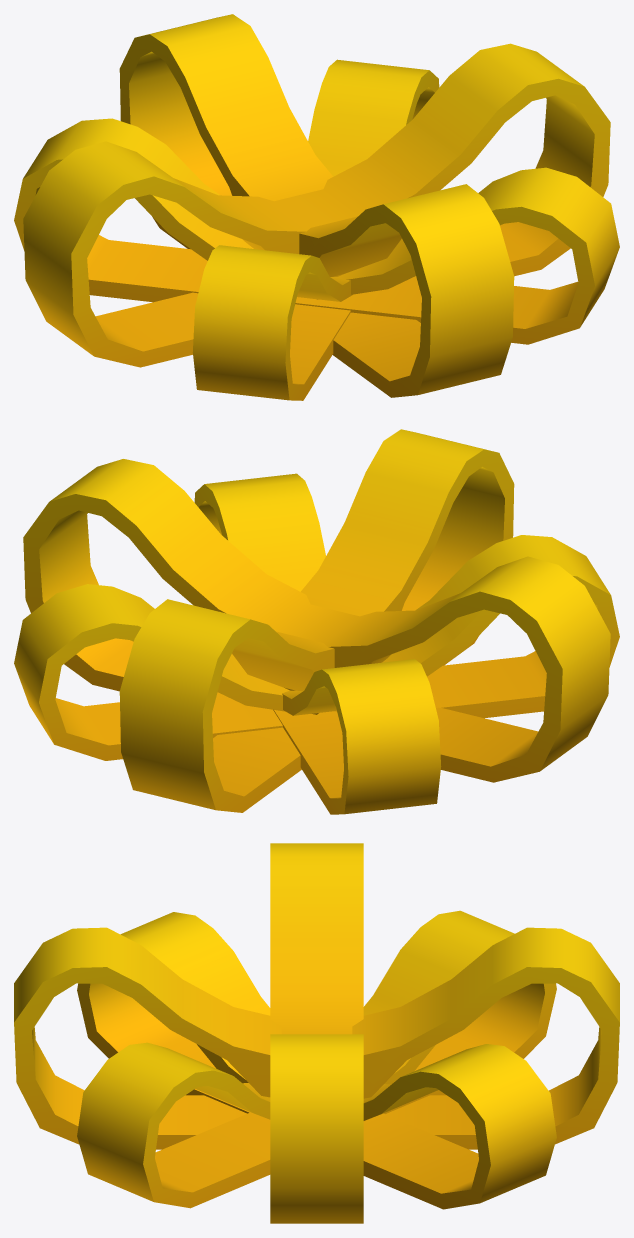
The model's file is bow_006.fbx.
3 views of the same model, one above another, from view 1: azimuth 30°, elevation 25°; view 2: azimuth 150°, elevation 25°; view 3: azimuth 270°, elevation 25° (orthographic). The views are drawn at different scales.
Parts seen in each view (by area): view 1: bow_006; view 2: bow_006; view 3: bow_006.
Boxes of the visible parts, x1,y1,x2,y2 form: bow_006: (14, 14, 619, 400); bow_006: (14, 429, 619, 814); bow_006: (14, 843, 619, 1223).
Bounding box in the file's own units: 195 × 195 × 65.41.
